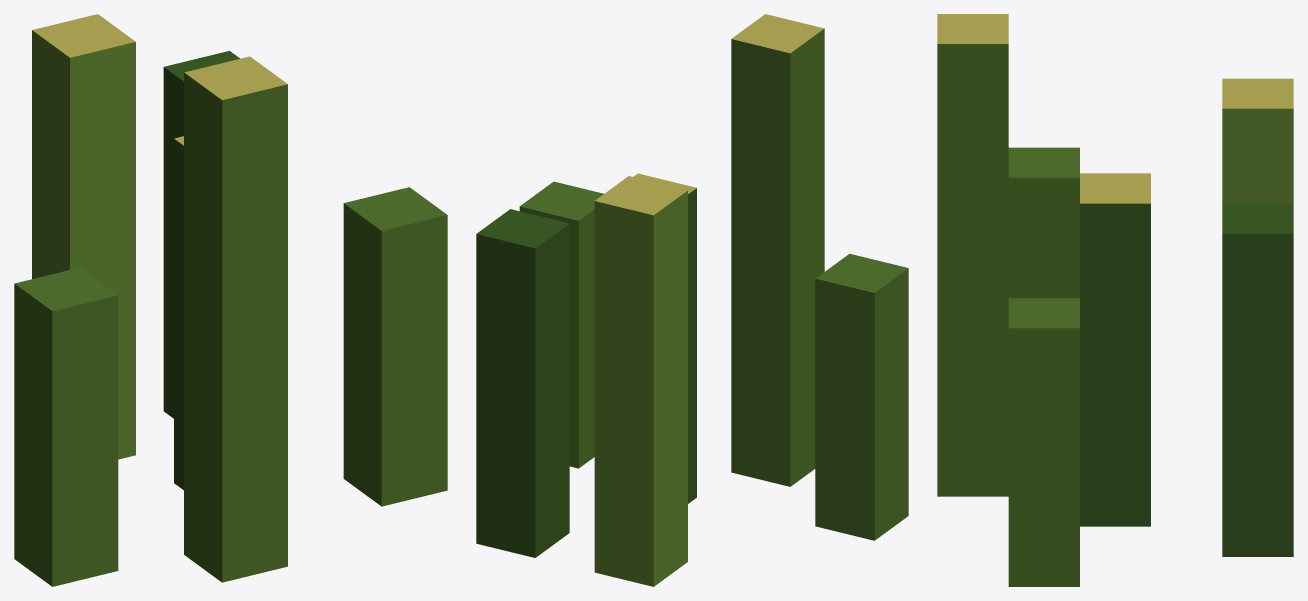
File: prop_grass_tuft_voxel_b.fbx
3 views of the same model, side by side, from view 1: azimuth 30°, elevation 25°; view 2: azimuth 150°, elevation 25°; view 3: azimuth 270°, elevation 25° (orthographic). The views are drawn at different scales.
Parts seen in each view (by area): view 1: prop_grass_tuft_voxel_b; view 2: prop_grass_tuft_voxel_b; view 3: prop_grass_tuft_voxel_b.
Part boxes in pixels (x1,y1,x2,y2): prop_grass_tuft_voxel_b: (14,14,447,586); prop_grass_tuft_voxel_b: (476,14,908,586); prop_grass_tuft_voxel_b: (937,14,1293,586).
Bounding box in the file's own units: 0.375 × 0.4375 × 0.3125.
